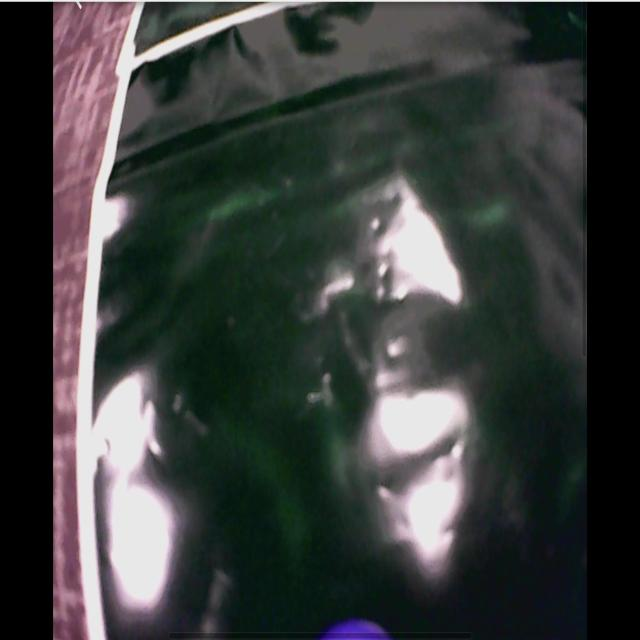ball: (324, 618, 393, 640)
